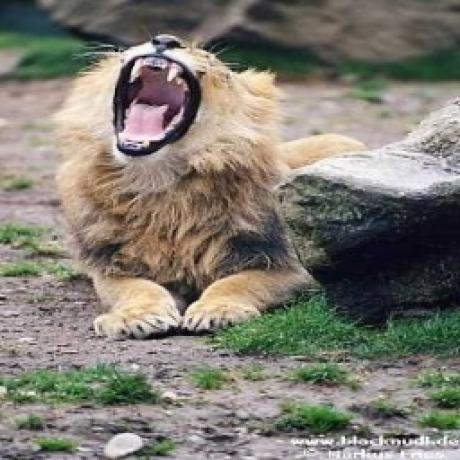Lion: (56, 31, 364, 340)
